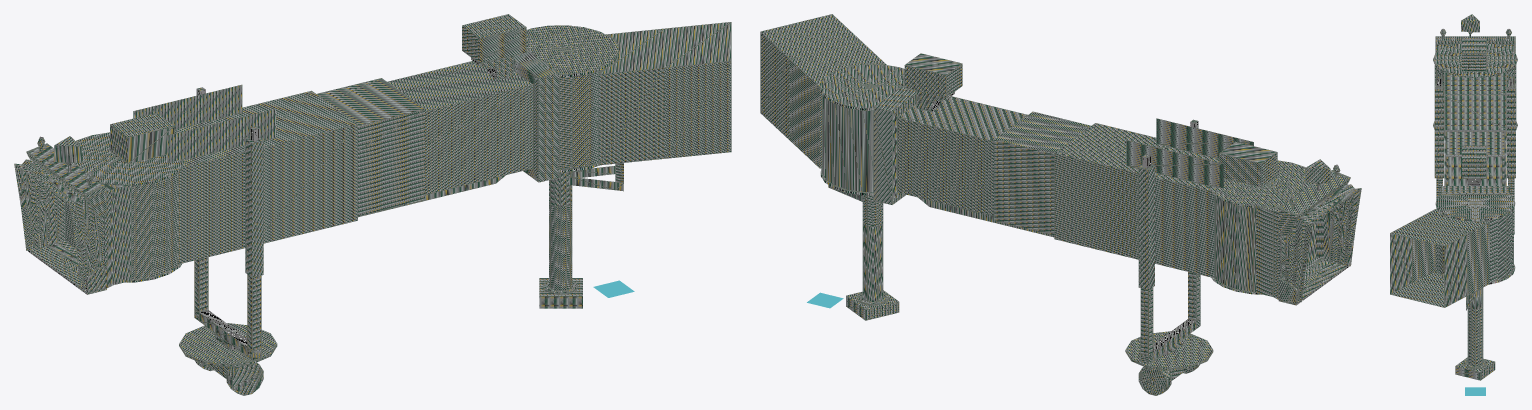
Rendered from jetwaysSKCL_animated.gltf.
3 views of the same model, side by side, from view 1: azimuth 30°, elevation 25°; view 2: azimuth 150°, elevation 25°; view 3: azimuth 270°, elevation 25° (orthographic). The views are drawn at different scales.
Parts seen in each view (by area): view 1: node1; view 2: node1; view 3: node1, node2.
Boxes of the visible parts, x1,y1,x2,y2 form: node1: (14,14,731,395); node1: (760,14,1361,395); node1: (1390,14,1517,380); node2: (1465,387,1485,395).
Size of the model in its own units: 25.1 by 10.53 by 6.14.
